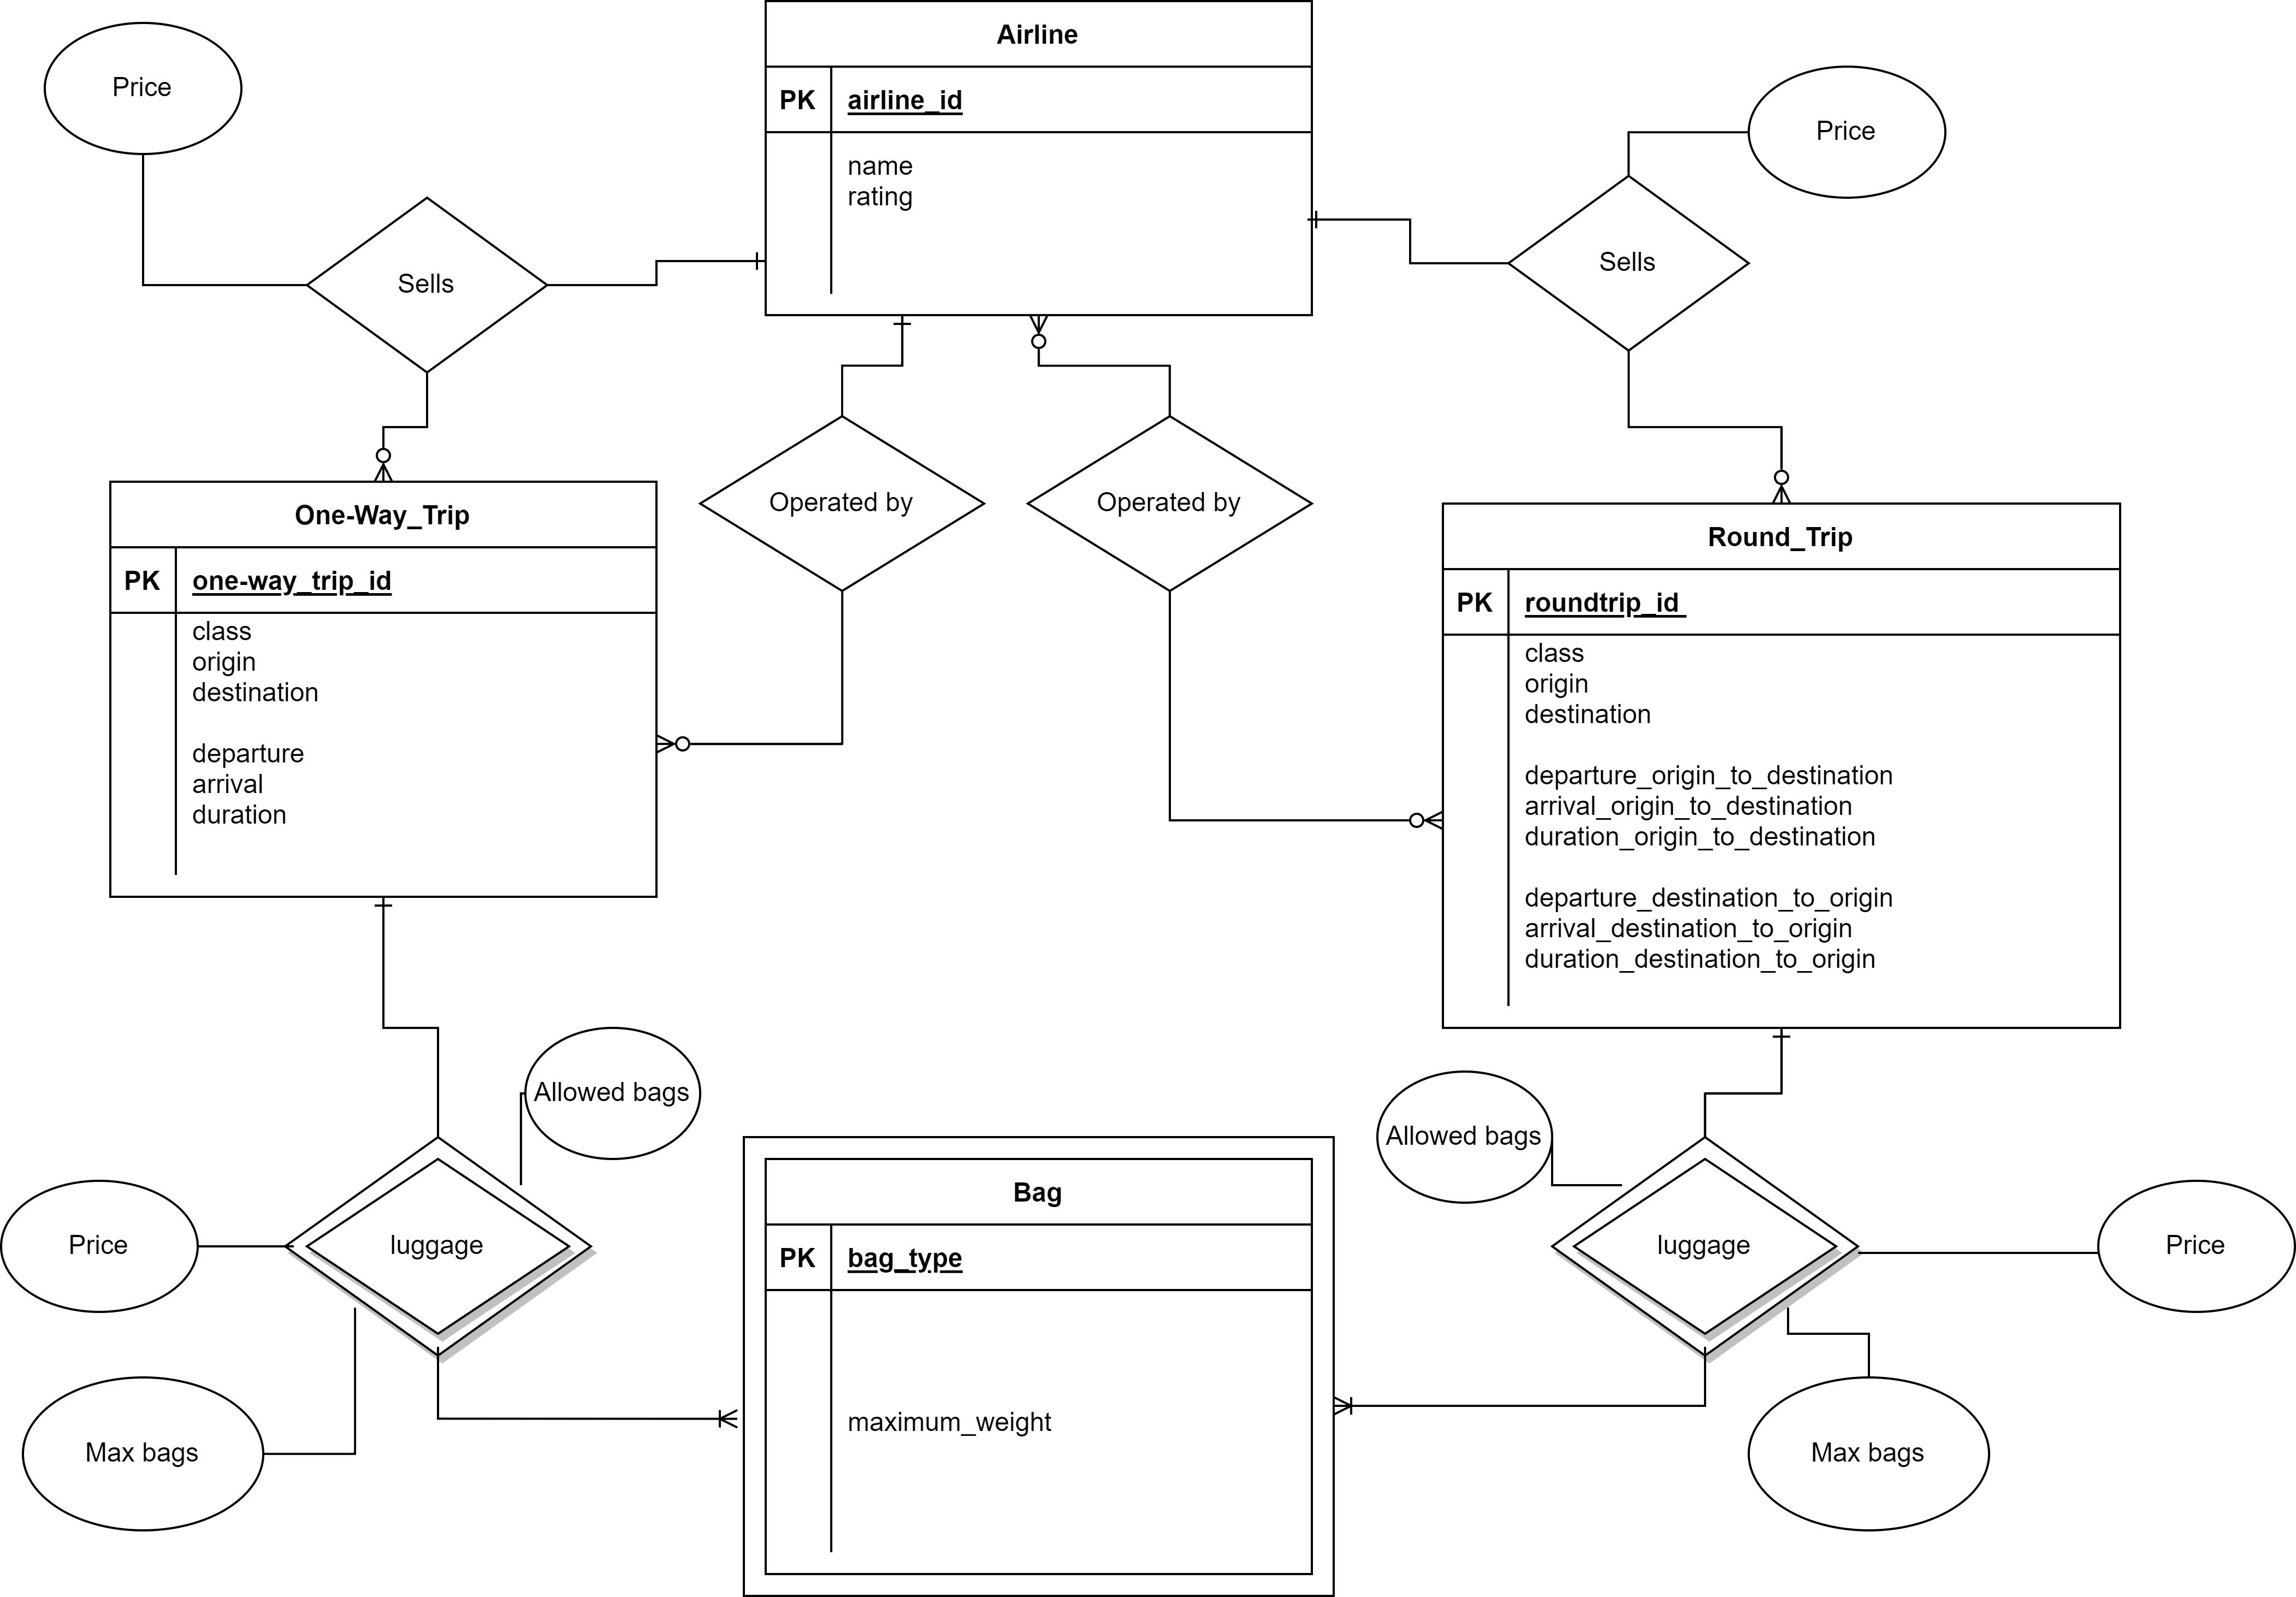attribute: (30, 1374, 263, 1532), (1748, 1379, 1987, 1532), (2097, 1173, 2296, 1314), (40, 24, 244, 154), (1745, 63, 1942, 195), (0, 1182, 199, 1313), (525, 1023, 703, 1166), (1377, 1066, 1553, 1204)
entity: (1441, 489, 2132, 1032), (105, 476, 663, 901), (759, 0, 1314, 319)
relationship: (1029, 410, 1314, 595), (698, 415, 982, 590), (309, 195, 548, 377), (1507, 175, 1755, 349)
weakentity: (740, 1131, 1336, 1597)
weakrelationship: (1548, 1129, 1869, 1361), (291, 1140, 595, 1354)
